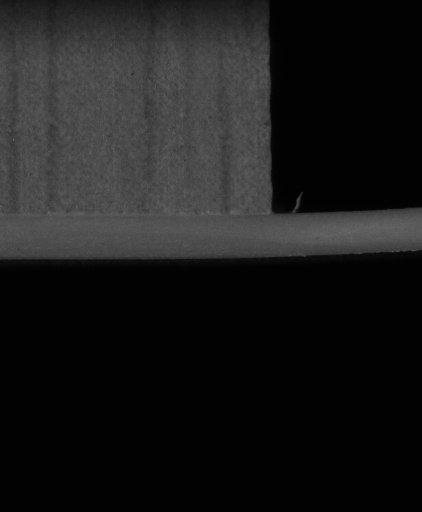changdai: (268, 204, 421, 259)
